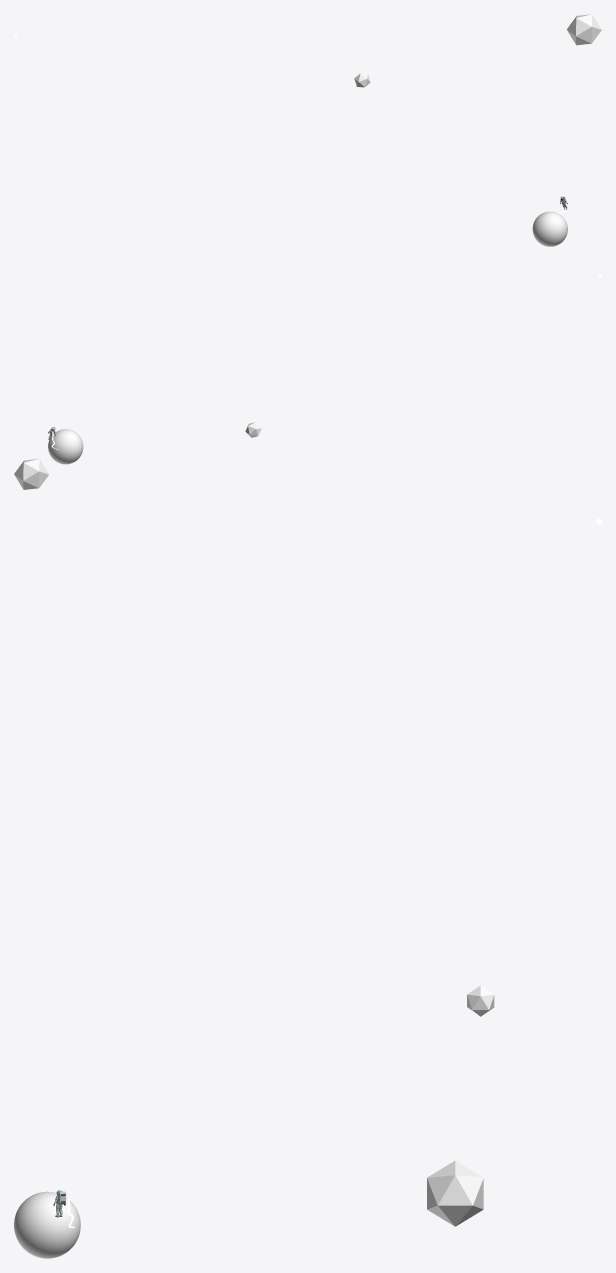
3 views of the same model, one above another, from view 1: azimuth 30°, elevation 25°; view 2: azimuth 210°, elevation 25°; view 3: azimuth 270°, elevation 25° (orthographic). The views are drawn at different scales.
Visible parts, largest first — view 1: Sphere, Icosahedron; view 2: Sphere, Icosahedron; view 3: Sphere, Icosahedron.
Boxes of the visible parts, x1,y1,x2,y2 form: Sphere: [532, 211, 567, 246]; Icosahedron: [567, 14, 601, 45]; Sphere: [48, 429, 83, 464]; Icosahedron: [14, 459, 48, 489]; Sphere: [14, 1191, 80, 1258]; Icosahedron: [427, 1160, 483, 1226].
Size of the model in its own units: 35.61 by 12.45 by 17.58.
6 materials, 1 textured.
